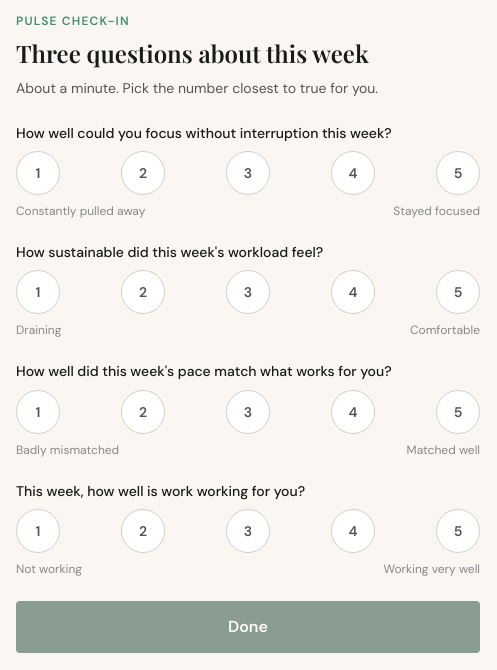
Test: PulseCheckinPage › compares this check-in against the frozen prior snapshot, not a live refetch
Expected: the text "How well could you focus without interruption this week?" is shown, [16, 124, 392, 142]
Click the 1st radio button labelled "5" at [458, 173], box [436, 151, 480, 195]
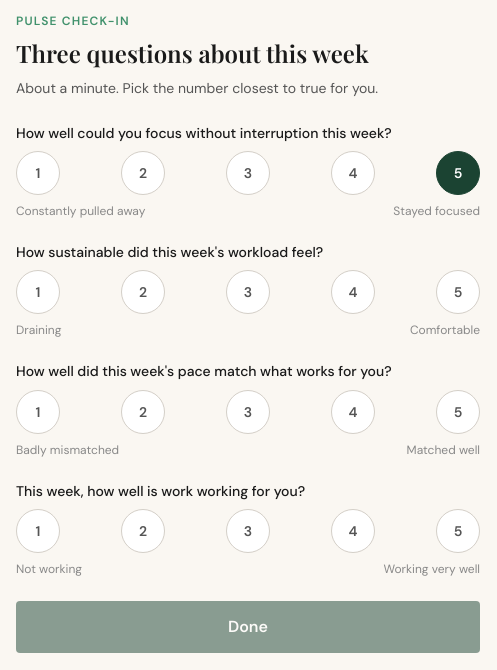
Click the 2nd radio button labelled "5" at [458, 292], box [436, 270, 480, 314]
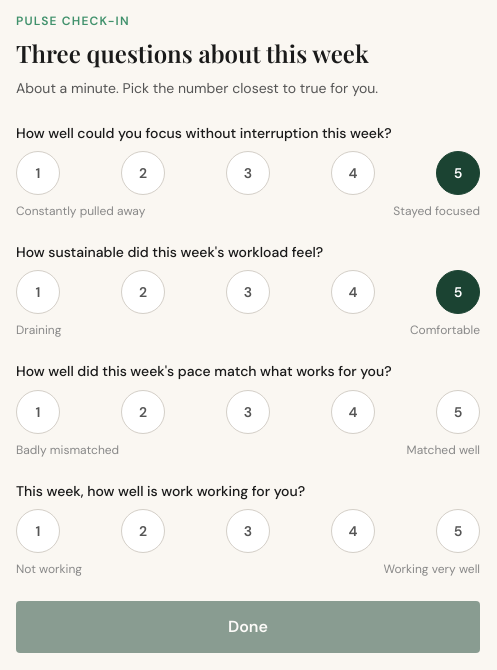
Click the 3rd radio button labelled "5" at [458, 412], box [436, 390, 480, 434]
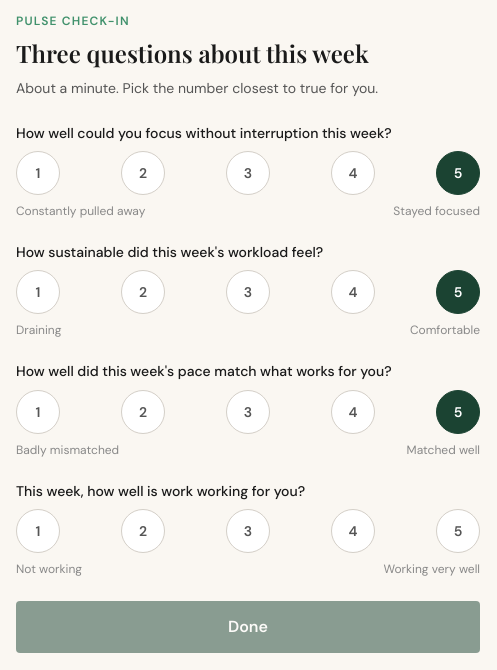
Click the 4th radio button labelled "5" at [458, 531], box [436, 509, 480, 553]
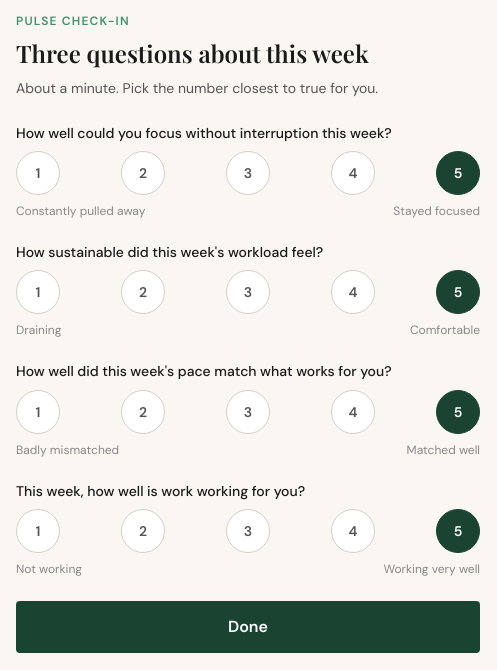
Click the button "Done" at [248, 627], box [16, 601, 480, 653]
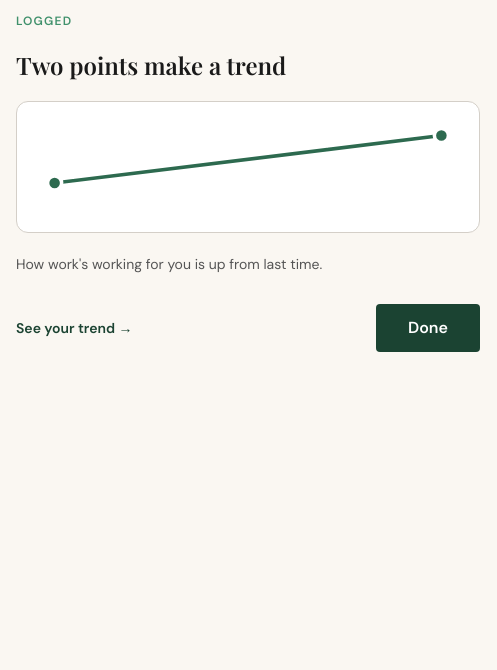
Expected: the heading "Two points make a trend" is shown, [16, 49, 286, 81]
Expected: the text "How work's working for you is up from last time." is shown, [16, 256, 322, 274]
